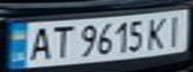1: (112, 19, 133, 54)
5: (127, 17, 148, 52)
6: (96, 20, 115, 56)
9: (75, 20, 100, 58)
A: (24, 24, 54, 61)
I: (163, 11, 190, 47)
K: (145, 15, 172, 49)
T: (48, 22, 75, 60)
